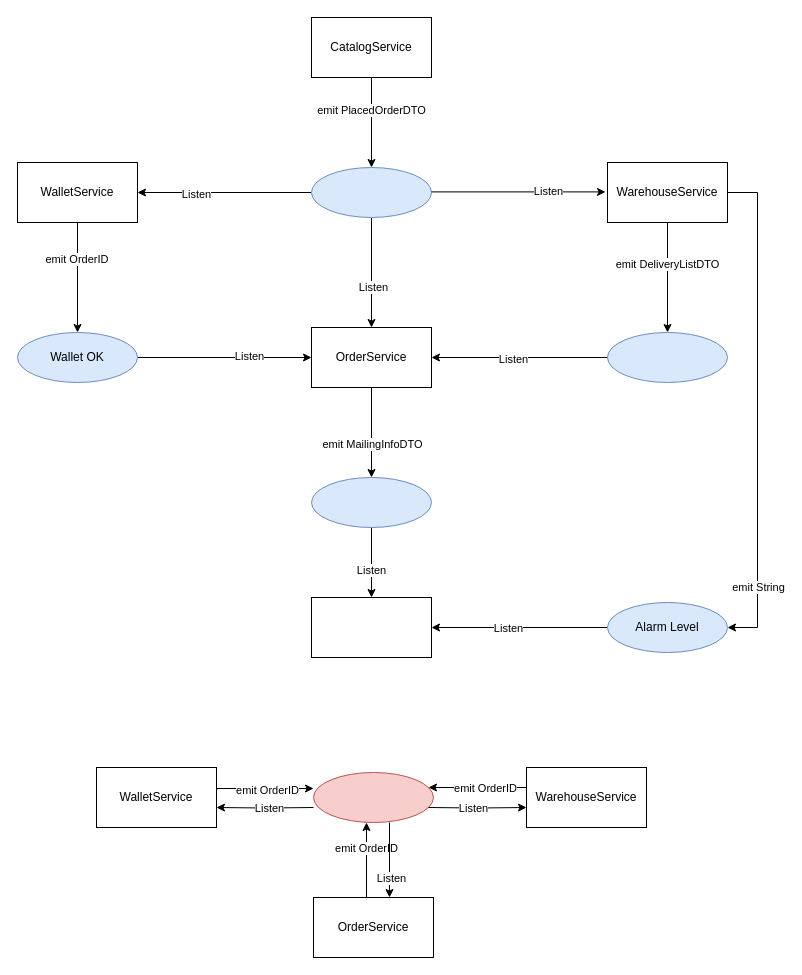
Some shapes in this 802 by 975 pixel diagram are drawn without their labels. Here are the shapes that lost their labels. From the top down, the centre of each, then its label:
point (371, 192): Create Order
point (667, 357): Products OK
point (371, 502): Order Tracking
point (371, 627): MailingService
point (373, 797): Rollback
